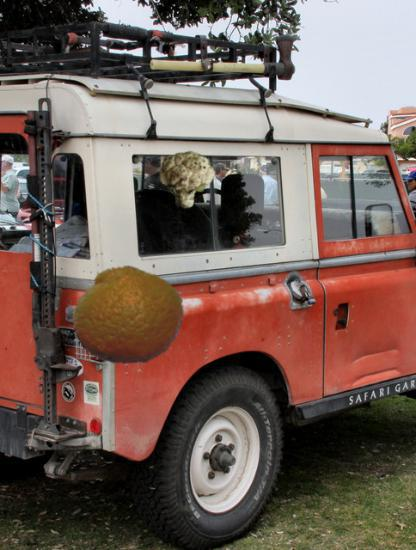Cauliflower: (159, 148, 218, 207)
Mandarine: (73, 260, 184, 371)
